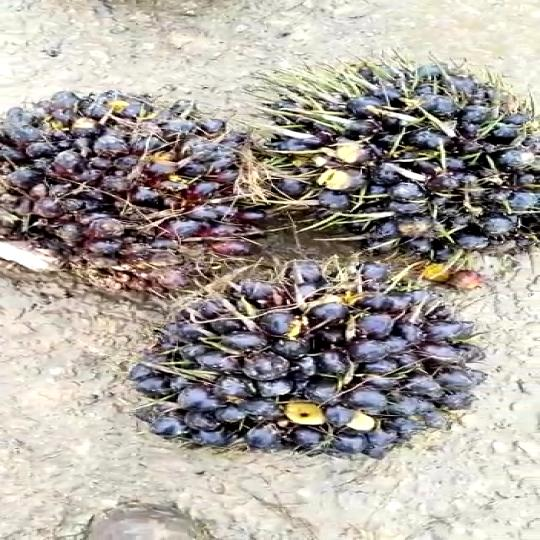mentah: (144, 256, 455, 482), (254, 45, 540, 269), (0, 90, 297, 265)
